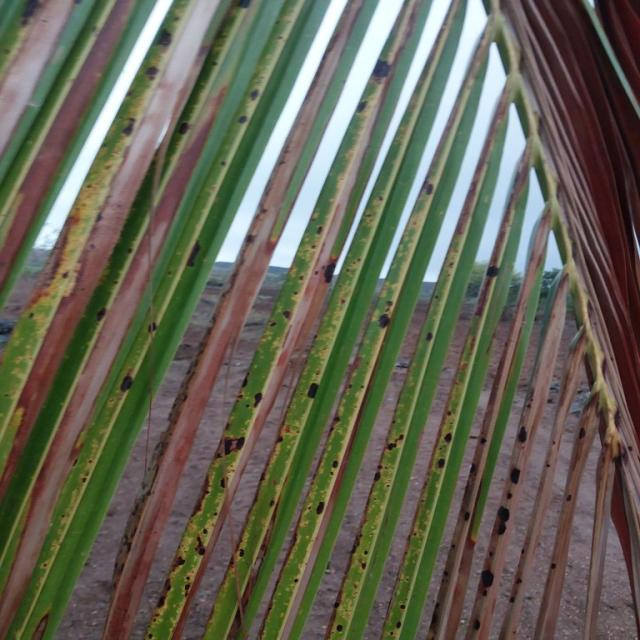gray leaf spot: (102, 0, 638, 640), (2, 0, 333, 640)
